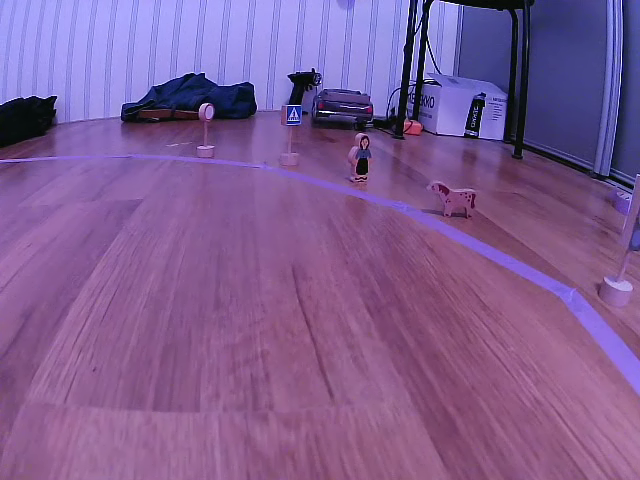mens: (348, 130, 373, 184)
paard: (426, 182, 477, 219)
wegdicht: (199, 102, 217, 121)
zebrapad: (282, 104, 303, 126)
